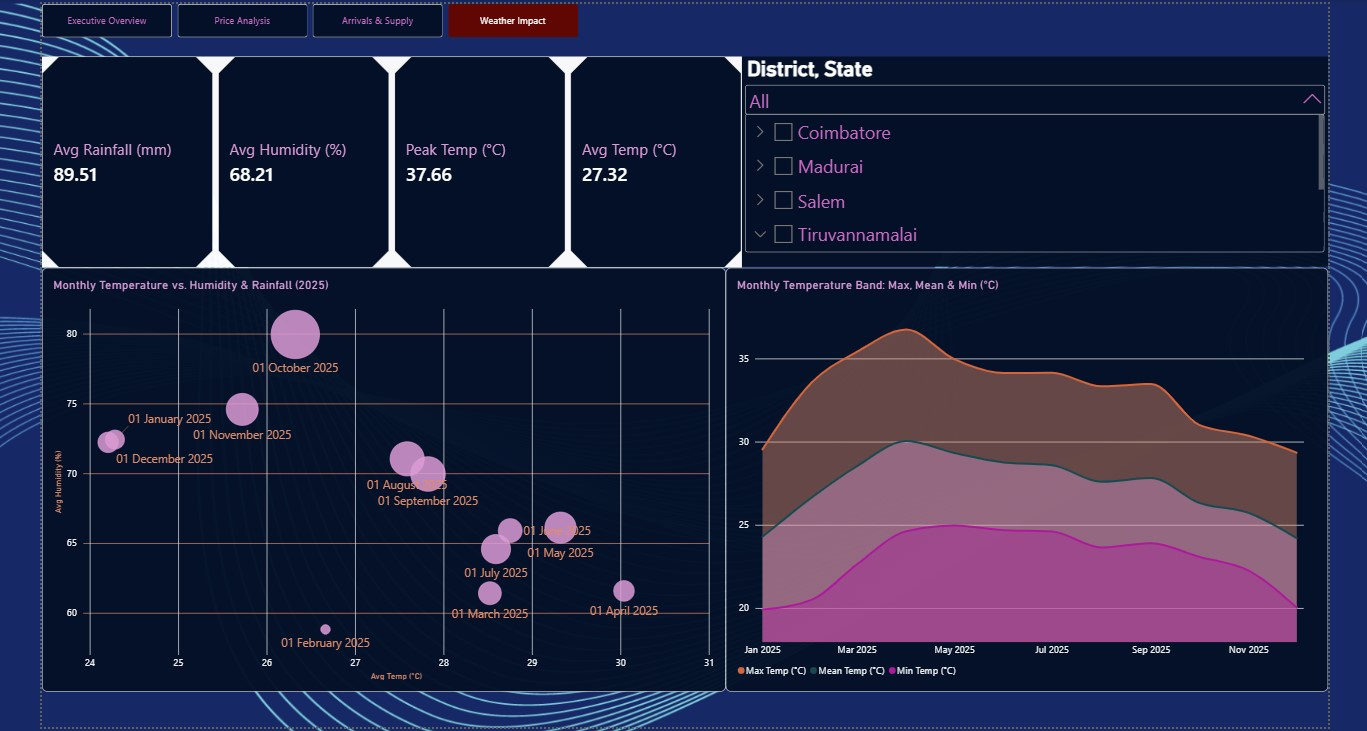

Layout of this report page (visuals, bound fields, positions):
{"tool":"powerbi","page":{"name":"Weather Impact","canvas":[1920,1080],"ordinal":3},"visuals":[{"type":"cardVisual","fields":{"Data":["Avg(monthly_weather.precipitation_sum)","Avg(monthly_weather.relative_humidity_2m_mean)","Max(monthly_weather.temperature_2m_max)","Avg(monthly_weather.temperature_2m_mean)"]},"box":[0,78.4,1044.9,315.3],"z":0},{"type":"slicer","fields":{"Values":["monthly_weather.District","monthly_weather.State"]},"box":[1044.9,78.4,875.1,313.5],"z":1000},{"type":"scatterChart","title":"Monthly Temperature vs. Humidity & Rainfall (2025)","fields":{"Category":["monthly_weather.month"],"Size":["Sum(monthly_weather.precipitation_sum)"],"X":["Avg(monthly_weather.temperature_2m_mean)"],"Y":["Avg(monthly_weather.relative_humidity_2m_mean)"]},"box":[0,393.7,1020.7,632.6],"z":2000},{"type":"areaChart","title":"Monthly Temperature Band: Max, Mean & Min (°C)","fields":{"Category":["monthly_weather.month"],"Y":["Avg(monthly_weather.temperature_2m_max)","Avg(monthly_weather.temperature_2m_mean)","Avg(monthly_weather.temperature_2m_min)"]},"box":[1020.7,393.7,899.4,632.6],"z":2001},{"type":"pageNavigator","box":[0,0,800,50],"z":2002}]}

Visuals, with their boxes on the page's 1920x1080 design canvas (x1, y1, x2, y2). These are canvas units, not pixel positions in the 1367x731 screenshot, which may show the page scaled, cropped or inside an application window:
cardVisual - Avg(monthly_weather.precipitation_sum) x Avg(monthly_weather.relative_humidity_2m_mean): pyautogui.locateOnScreen(0, 78, 1045, 394)
slicer - monthly_weather.District x monthly_weather.State: pyautogui.locateOnScreen(1045, 78, 1920, 392)
"Monthly Temperature vs. Humidity & Rainfall (2025)" scatterChart: pyautogui.locateOnScreen(0, 394, 1021, 1026)
"Monthly Temperature Band: Max, Mean & Min (°C)" areaChart: pyautogui.locateOnScreen(1021, 394, 1920, 1026)
pageNavigator: pyautogui.locateOnScreen(0, 0, 800, 50)
